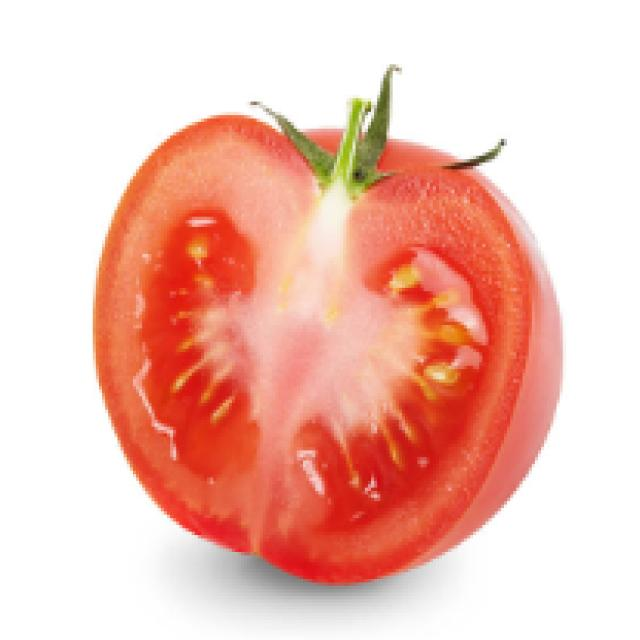Tomato: (74, 70, 574, 588)
